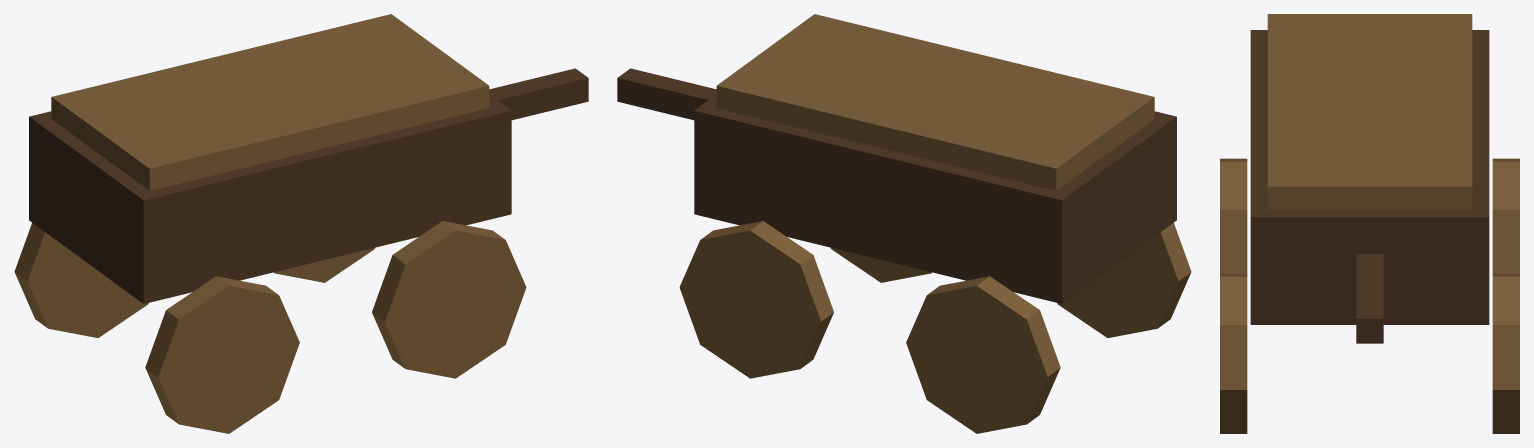
File: cart.glb
The picture shows the model from 3 angles, left to right: view 1: azimuth 30°, elevation 25°; view 2: azimuth 150°, elevation 25°; view 3: azimuth 270°, elevation 25°; orthographic projection. The views are drawn at different scales.
Parts seen in each view (by area): view 1: Cube, Cube.001, Cylinder, Cylinder.002, Cylinder.001, Cube.002, Cylinder.003; view 2: Cube, Cube.001, Cylinder.001, Cylinder.003, Cylinder, Cube.002, Cylinder.002; view 3: Cube.001, Cube, Cylinder.002, Cylinder.003, Cylinder, Cylinder.001, Cube.002.
Boxes of the visible parts, bbox=[...] form: Cube: bbox=[29, 94, 511, 303]; Cube.001: bbox=[51, 14, 489, 190]; Cylinder: bbox=[145, 276, 299, 433]; Cylinder.002: bbox=[372, 221, 526, 378]; Cylinder.001: bbox=[14, 222, 148, 337]; Cube.002: bbox=[489, 68, 588, 120]; Cylinder.003: bbox=[274, 247, 374, 282]; Cube: bbox=[694, 94, 1176, 303]; Cube.001: bbox=[716, 14, 1154, 190]; Cylinder.001: bbox=[906, 276, 1060, 433]; Cylinder.003: bbox=[679, 221, 833, 378]; Cylinder: bbox=[1057, 222, 1191, 337]; Cube.002: bbox=[617, 68, 716, 120]; Cylinder.002: bbox=[831, 247, 931, 282]; Cube.001: bbox=[1267, 14, 1472, 209]; Cube: bbox=[1250, 30, 1489, 324]; Cylinder.002: bbox=[1220, 274, 1247, 433]; Cylinder.003: bbox=[1492, 274, 1519, 433]; Cylinder: bbox=[1220, 158, 1247, 273]; Cylinder.001: bbox=[1492, 158, 1519, 273]; Cube.002: bbox=[1356, 254, 1383, 343].
Size of the model in its own units: 35 by 17.7 by 17.6.
